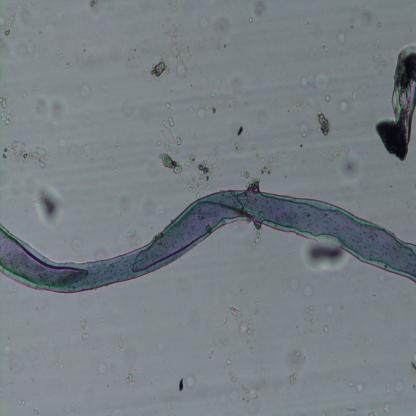Background material: (174, 150, 222, 192), (223, 355, 258, 403), (0, 136, 51, 168), (298, 242, 346, 275), (152, 109, 184, 151), (30, 94, 67, 128), (323, 142, 359, 176), (31, 183, 61, 222), (0, 2, 24, 42), (197, 14, 232, 41), (231, 311, 256, 346), (299, 66, 331, 90), (290, 108, 312, 139), (5, 342, 24, 376), (310, 110, 334, 136), (0, 94, 15, 135), (146, 61, 168, 88), (158, 155, 186, 175), (173, 48, 191, 79), (260, 151, 284, 174), (247, 221, 262, 254), (300, 301, 318, 326), (346, 377, 366, 399), (226, 298, 242, 323), (195, 104, 215, 121), (94, 353, 108, 375), (178, 374, 196, 390), (298, 283, 314, 300), (338, 93, 350, 115), (82, 319, 94, 341), (391, 376, 403, 396), (377, 402, 393, 416), (79, 0, 101, 10), (288, 366, 298, 385), (250, 5, 266, 16), (127, 229, 141, 241), (113, 338, 124, 352), (235, 123, 243, 137), (321, 91, 331, 102), (32, 406, 43, 416), (128, 375, 134, 387), (340, 34, 346, 42), (209, 352, 214, 360), (324, 324, 328, 334)
Cellulose filter fibre: (373, 46, 416, 162)
Microfibre: (0, 181, 416, 301)
